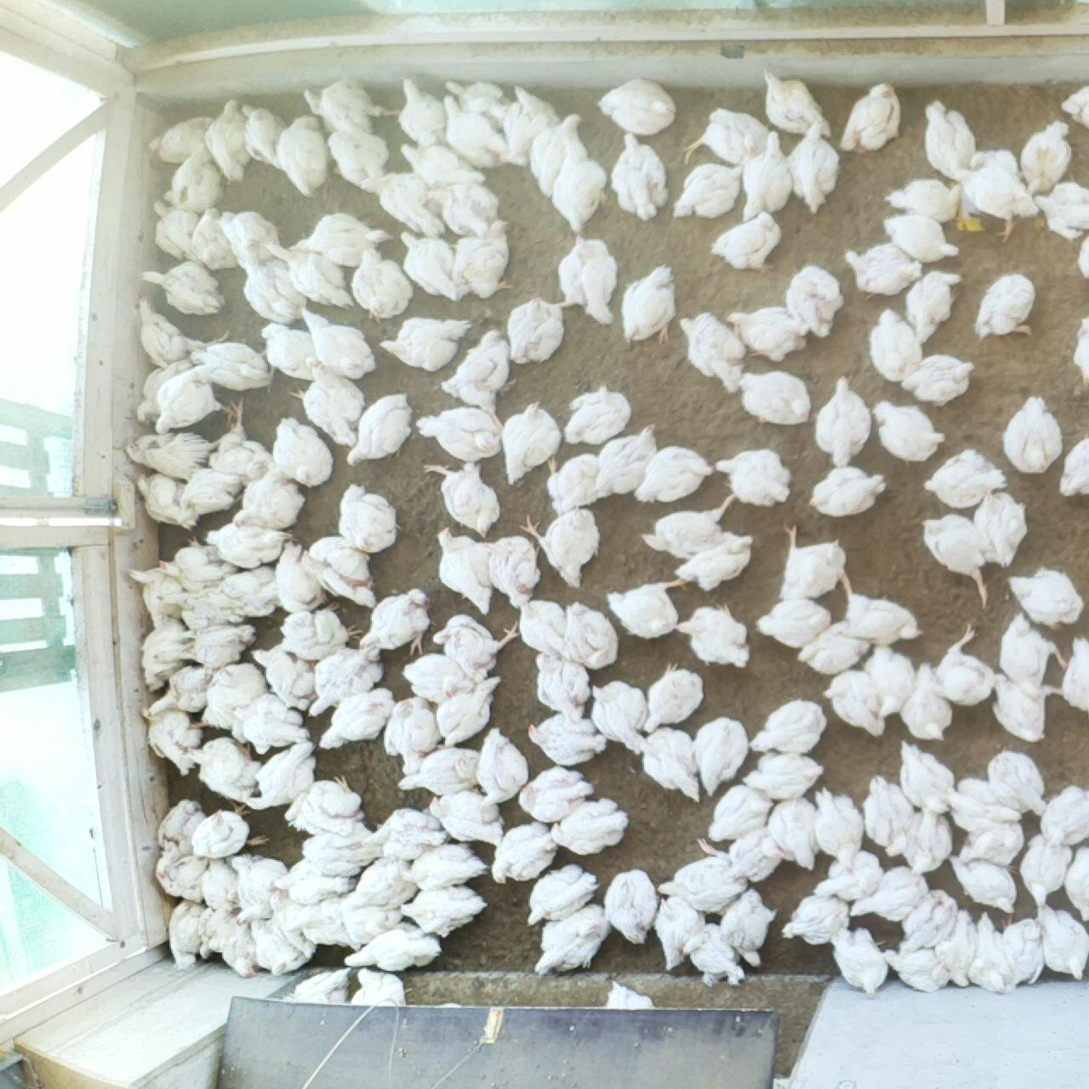chicken: (920, 510, 998, 610), (132, 289, 229, 369), (831, 566, 924, 645), (656, 836, 746, 916), (437, 328, 516, 419), (522, 502, 603, 590), (952, 162, 1040, 242), (292, 356, 365, 449), (209, 396, 283, 487), (262, 237, 354, 310), (677, 310, 755, 394), (153, 363, 240, 437), (231, 237, 304, 325), (421, 457, 501, 537), (432, 611, 522, 682), (641, 494, 737, 560), (553, 230, 619, 324), (534, 901, 611, 980), (300, 535, 381, 610), (432, 525, 498, 616), (301, 307, 381, 381), (999, 611, 1067, 698), (124, 429, 229, 485), (361, 170, 447, 238), (305, 643, 384, 717), (606, 131, 670, 222), (721, 303, 812, 367), (247, 640, 327, 712), (187, 733, 264, 807), (301, 76, 399, 134), (683, 107, 773, 170), (225, 692, 312, 757), (781, 118, 839, 215), (343, 391, 415, 469), (358, 584, 432, 659), (920, 448, 1008, 511), (737, 128, 794, 225), (928, 621, 993, 706), (438, 95, 511, 170), (530, 111, 589, 203), (548, 144, 608, 234), (761, 68, 833, 143), (267, 415, 336, 493), (779, 525, 848, 603), (673, 528, 757, 592), (283, 775, 365, 840), (434, 674, 503, 751), (341, 922, 445, 973), (714, 888, 780, 968), (1004, 562, 1084, 628), (325, 112, 389, 194), (203, 519, 298, 574), (595, 421, 661, 500), (969, 486, 1031, 570), (379, 316, 470, 373), (451, 217, 515, 298), (676, 601, 752, 669), (944, 849, 1021, 916), (287, 214, 392, 263), (316, 686, 396, 750), (247, 737, 318, 809), (815, 376, 873, 464), (416, 405, 501, 465), (229, 465, 305, 532), (526, 707, 608, 769), (588, 677, 650, 759), (474, 726, 532, 813), (637, 726, 700, 806), (843, 241, 927, 301), (397, 229, 465, 303), (346, 246, 413, 321), (140, 259, 228, 316), (918, 100, 977, 185), (381, 694, 442, 776), (714, 445, 792, 509), (826, 922, 888, 1002), (275, 110, 332, 197), (336, 481, 403, 555), (523, 863, 599, 928), (808, 786, 864, 874), (894, 738, 957, 816), (838, 81, 906, 153), (734, 367, 814, 428), (868, 400, 943, 465), (504, 400, 560, 487), (155, 535, 239, 593), (188, 341, 278, 395), (848, 862, 929, 922), (634, 443, 712, 505), (550, 795, 629, 856), (279, 604, 365, 660), (738, 750, 824, 806), (972, 269, 1036, 344), (1001, 395, 1061, 475), (643, 661, 706, 737), (480, 534, 543, 610), (620, 262, 677, 346), (397, 139, 489, 191), (670, 161, 747, 223), (490, 820, 560, 888), (198, 661, 268, 729), (204, 99, 260, 184), (425, 182, 503, 243), (897, 658, 955, 740), (708, 209, 781, 274), (825, 661, 885, 740), (782, 264, 846, 338), (400, 882, 486, 937), (505, 85, 560, 171), (745, 697, 825, 756), (517, 762, 593, 824), (188, 802, 266, 862), (301, 821, 383, 878), (691, 713, 748, 795), (396, 744, 484, 797), (597, 78, 676, 137), (901, 271, 963, 346), (1033, 899, 1089, 982), (154, 620, 257, 665), (603, 579, 680, 639), (259, 324, 324, 395), (806, 462, 888, 518), (859, 639, 915, 721), (765, 793, 823, 872), (284, 892, 359, 953), (139, 702, 202, 774), (507, 295, 569, 368), (402, 841, 490, 892), (942, 776, 1025, 830), (363, 808, 443, 864), (428, 789, 505, 847), (681, 922, 747, 989), (563, 382, 629, 449), (226, 857, 290, 926), (155, 586, 245, 635), (986, 672, 1049, 742), (143, 111, 219, 169), (270, 539, 327, 616), (863, 773, 915, 857), (898, 887, 962, 955), (653, 893, 707, 973), (877, 212, 958, 265), (704, 784, 774, 845), (152, 797, 204, 879), (140, 615, 195, 692), (988, 749, 1049, 818), (882, 176, 964, 227), (133, 355, 190, 428), (330, 894, 407, 948), (604, 868, 658, 945), (1019, 121, 1073, 198), (899, 351, 976, 405), (781, 887, 855, 943), (532, 651, 592, 720), (563, 601, 621, 672), (162, 143, 221, 212), (145, 663, 215, 721), (796, 618, 867, 675), (242, 911, 307, 973), (236, 96, 287, 175), (276, 857, 358, 906), (1019, 835, 1074, 908), (968, 910, 1015, 995), (544, 450, 601, 520), (870, 307, 921, 385), (218, 206, 281, 269), (401, 653, 475, 706), (952, 817, 1024, 871), (998, 911, 1045, 993), (393, 73, 445, 147), (125, 564, 189, 623), (344, 857, 415, 910), (905, 802, 954, 878), (933, 909, 980, 988), (177, 462, 242, 519), (445, 75, 510, 132), (755, 598, 829, 647), (153, 851, 221, 904), (210, 567, 278, 620), (263, 890, 317, 956), (149, 197, 202, 264), (137, 470, 195, 531), (815, 850, 883, 902), (189, 203, 239, 272), (165, 898, 210, 974), (1034, 179, 1089, 241), (884, 942, 949, 994), (1036, 786, 1089, 846), (516, 600, 571, 657), (277, 964, 353, 1005), (346, 968, 414, 1011), (1054, 430, 1089, 503), (1059, 633, 1089, 713), (196, 901, 236, 960), (199, 858, 240, 914), (219, 915, 254, 976), (1063, 845, 1089, 924), (602, 980, 660, 1012), (965, 147, 1019, 180), (1058, 83, 1089, 132), (1069, 317, 1089, 388)
